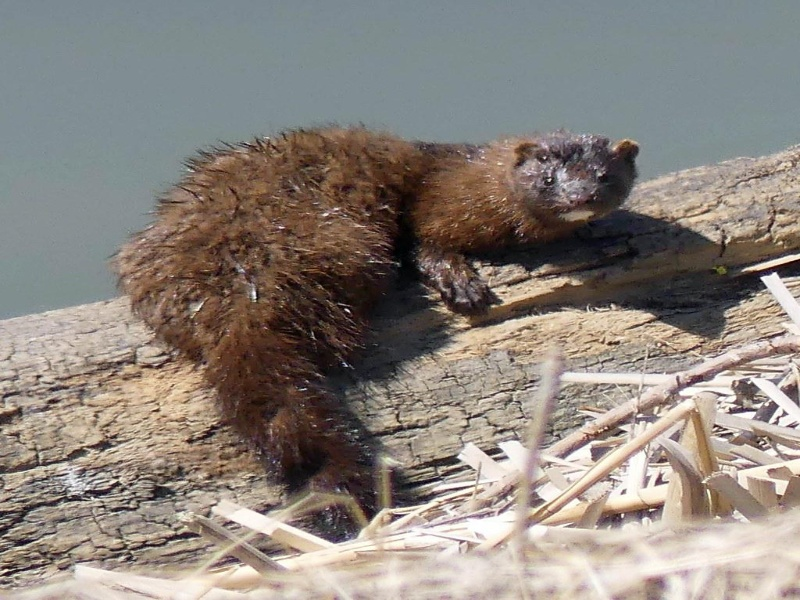minkish: (116, 118, 645, 534)
